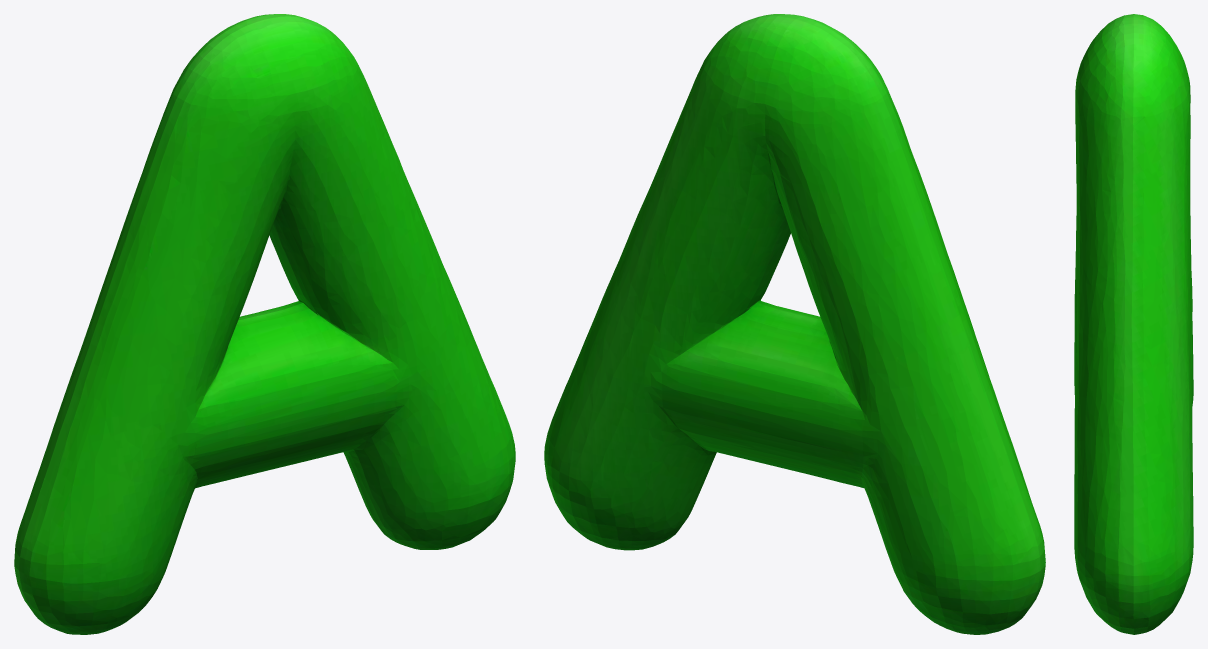
The picture shows the model from 3 angles, left to right: view 1: azimuth 30°, elevation 25°; view 2: azimuth 150°, elevation 25°; view 3: azimuth 270°, elevation 25°; orthographic projection. The views are drawn at different scales.
Visible parts, largest first — view 1: geometry_0; view 2: geometry_0; view 3: geometry_0.
Part boxes in pixels (<box>): geometry_0: <box>14,14,515,634</box>; geometry_0: <box>544,14,1045,634</box>; geometry_0: <box>1074,14,1193,634</box>.
Size of the model in its own units: 0.903 by 0.9993 by 0.2058.
1 material, 1 textured.
